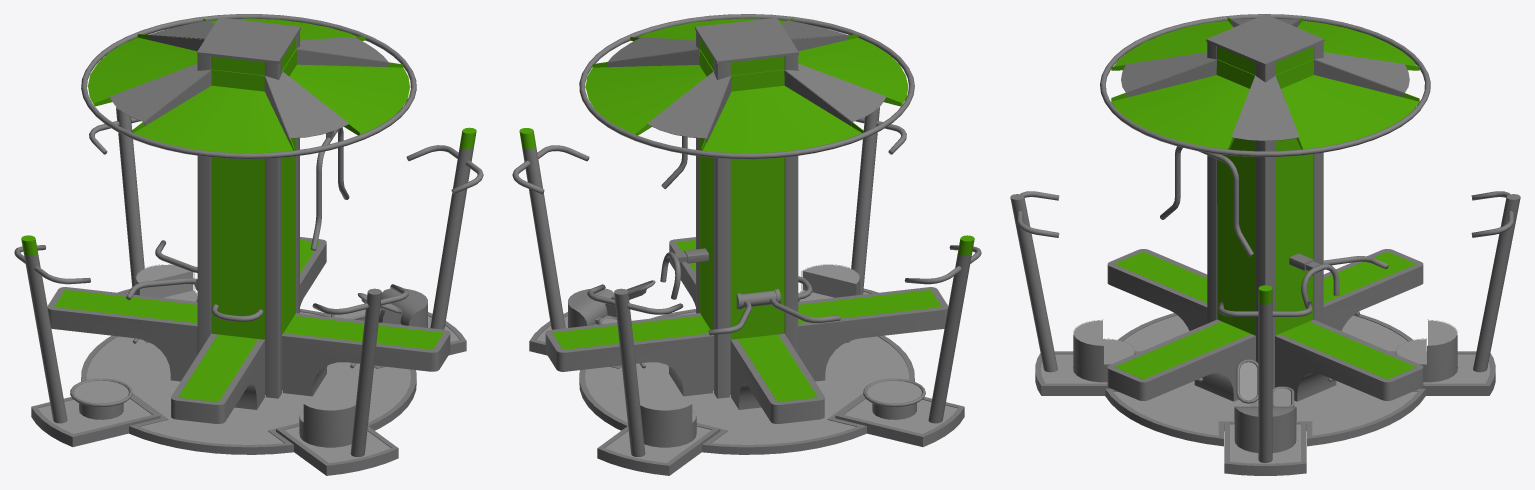
3 renders of one model, left to right at view 1: azimuth 30°, elevation 25°; view 2: azimuth 150°, elevation 25°; view 3: azimuth 270°, elevation 25°, orthographic.
Parts seen in each view (by area): view 1: SM_173; view 2: SM_173; view 3: SM_173.
Part boxes in pixels (x1=…): SM_173: x1=14, y1=14, x2=483, y2=475; SM_173: x1=512, y1=14, x2=981, y2=475; SM_173: x1=1010, y1=14, x2=1520, y2=475.
Size of the model in its own units: 3.74 by 2.72 by 3.7.
